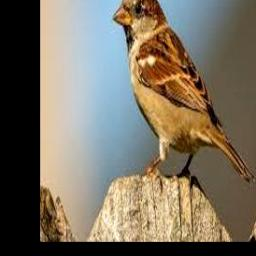Sparrow: (112, 0, 254, 182)
